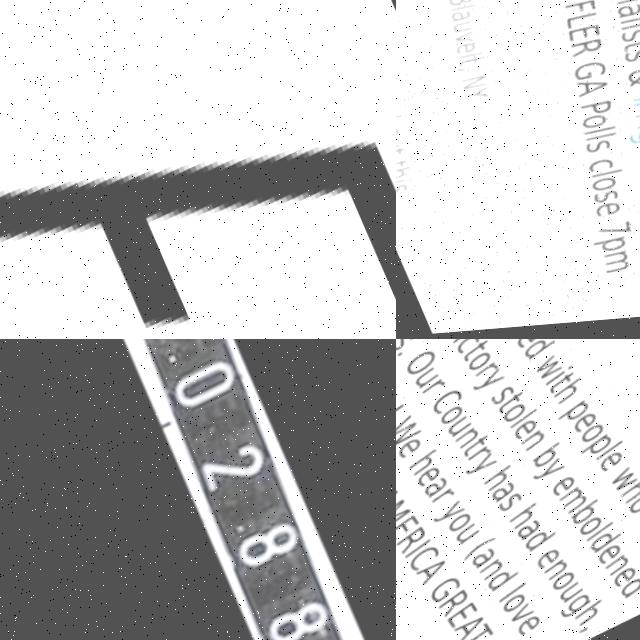0: (169, 354, 243, 416)
2: (196, 434, 271, 497)
7: (593, 215, 632, 249)
8: (230, 514, 305, 579), (258, 593, 334, 640)
F: (0, 0, 396, 339)
